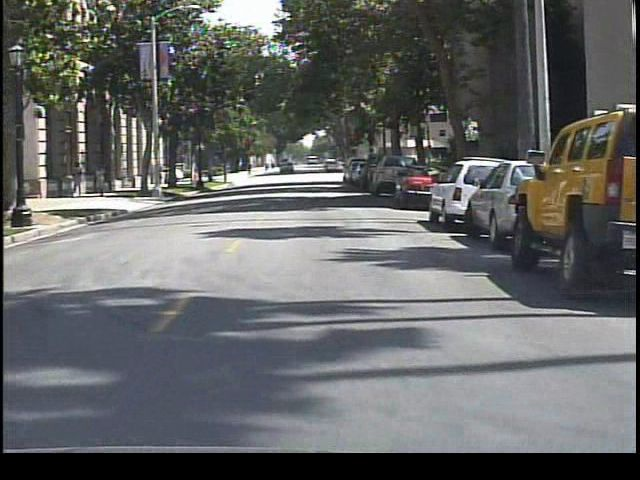person: (92, 161, 116, 199), (69, 159, 90, 201)
